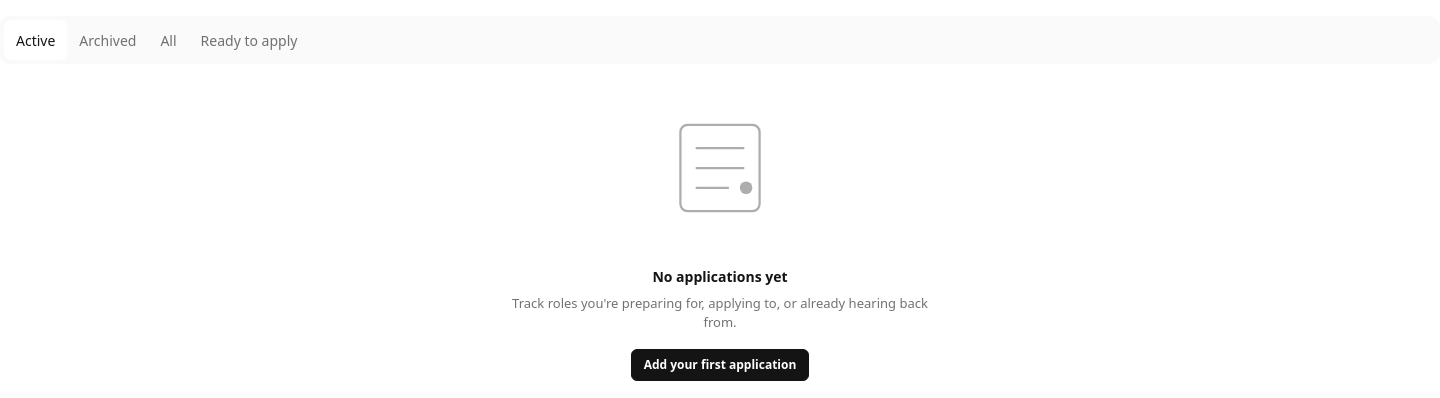
Test: ApplicationsPage › shows a distinct empty state per tab
expect the heading "No applications yet" is shown: met, box x1=652 y1=267 x2=788 y2=286
Click the tab "Archived".
click(108, 40)  # box x1=67 y1=20 x2=148 y2=60
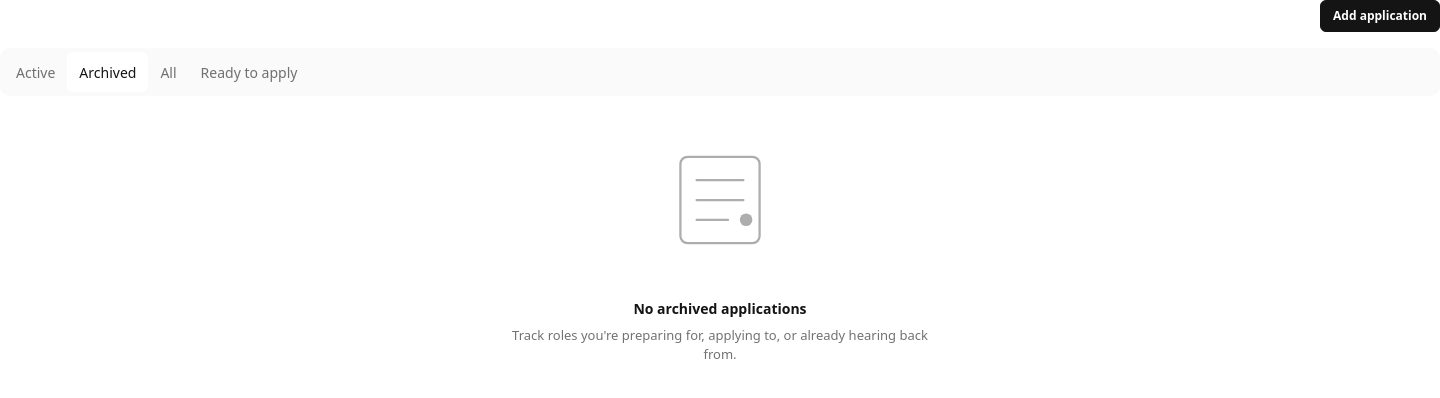
expect the heading "No archived applications" is shown: met, box x1=633 y1=299 x2=807 y2=318
